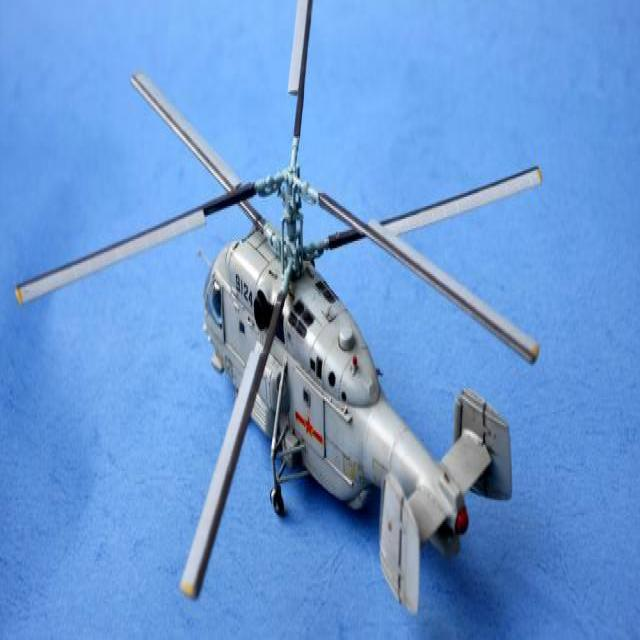MIL_HELO: (20, 31, 598, 619)
